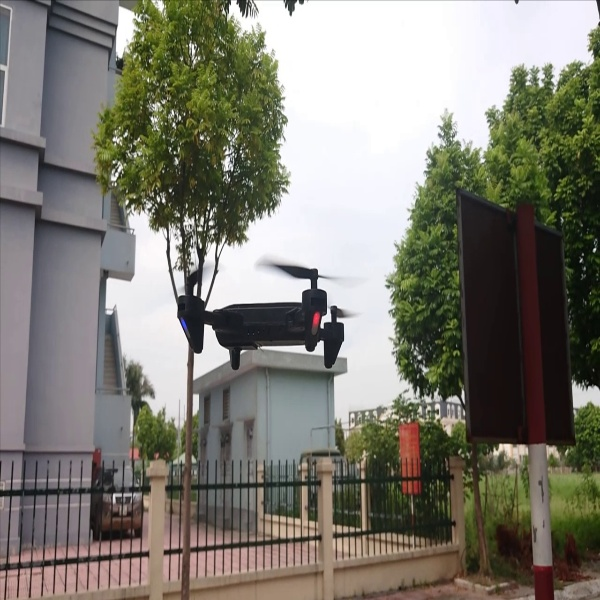drone: (175, 255, 365, 373)
